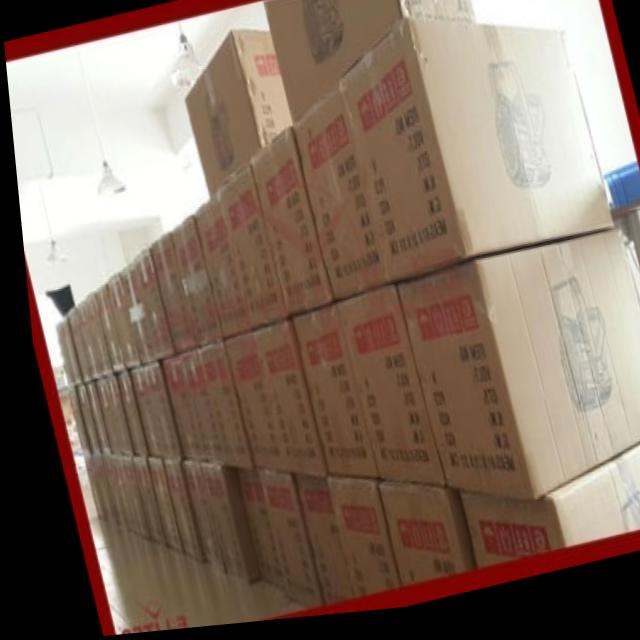box: (336, 25, 609, 292), (391, 240, 640, 512), (263, 0, 474, 129), (450, 454, 640, 579), (329, 293, 435, 496), (290, 92, 386, 307), (182, 36, 289, 202), (246, 134, 327, 321), (284, 311, 367, 486), (246, 323, 316, 480), (213, 170, 280, 333), (368, 490, 463, 594), (248, 474, 309, 614), (317, 484, 387, 604), (217, 337, 276, 474), (189, 198, 244, 341), (283, 479, 341, 608), (190, 464, 248, 587), (190, 344, 243, 471), (165, 221, 215, 349), (226, 475, 272, 598), (143, 236, 188, 356), (171, 354, 216, 471), (172, 464, 212, 576), (128, 251, 166, 362), (153, 460, 193, 564), (153, 360, 191, 462), (114, 265, 151, 368), (136, 364, 172, 462), (136, 457, 171, 556), (101, 273, 134, 367), (123, 458, 153, 549), (122, 370, 152, 458), (89, 286, 119, 374), (111, 456, 138, 542), (99, 454, 126, 536), (110, 375, 137, 455), (96, 376, 123, 456), (80, 296, 103, 377), (92, 456, 117, 530), (71, 301, 93, 380), (60, 311, 84, 383), (86, 379, 109, 454), (81, 457, 104, 527), (73, 454, 95, 522), (60, 387, 82, 454), (78, 383, 99, 453), (69, 386, 89, 454), (50, 320, 71, 384)
